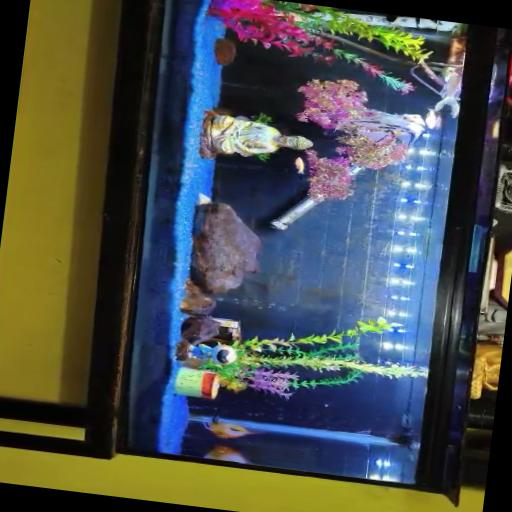Fish: (336, 108, 424, 143), (432, 67, 461, 116), (202, 415, 258, 438), (203, 445, 249, 463), (423, 108, 436, 127), (294, 156, 304, 173), (384, 14, 398, 22)
